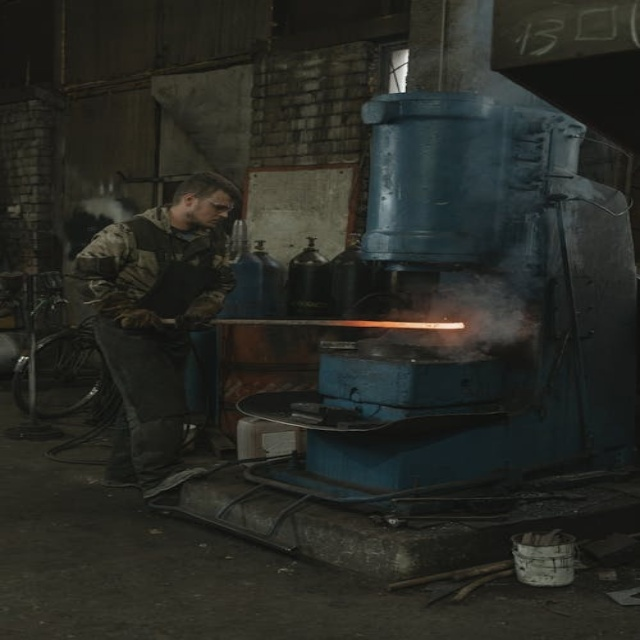Gafas: (197, 195, 234, 214)
Guantes: (175, 289, 228, 333), (116, 307, 167, 331)
Sin_mascara: (210, 217, 226, 225)
